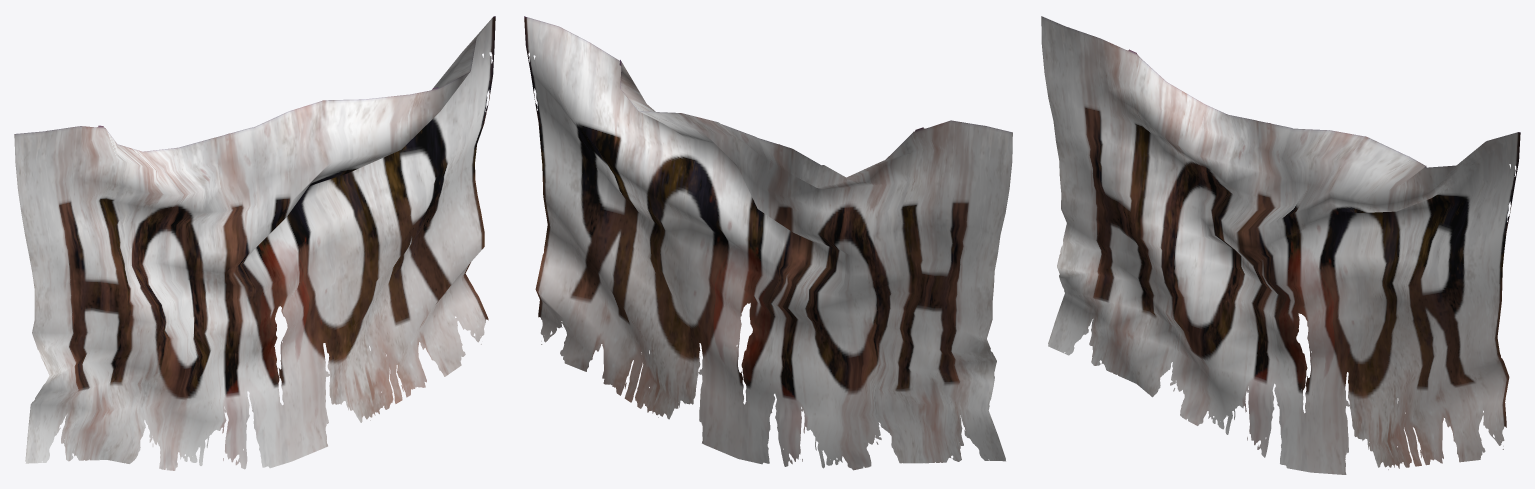
The model's file is banner_Honor.fbx.
3 views of the same model, side by side, from view 1: azimuth 30°, elevation 25°; view 2: azimuth 150°, elevation 25°; view 3: azimuth 330°, elevation 25° (orthographic).
Visible parts, largest first — view 1: banner_Honor; view 2: banner_Honor; view 3: banner_Honor.
Boxes of the visible parts, box(x1,y1,x2,y2) form: banner_Honor: box(14, 16, 495, 470); banner_Honor: box(524, 16, 1012, 470); banner_Honor: box(1041, 16, 1520, 474).
Bounding box in the file's own units: 835 × 653 × 115.
